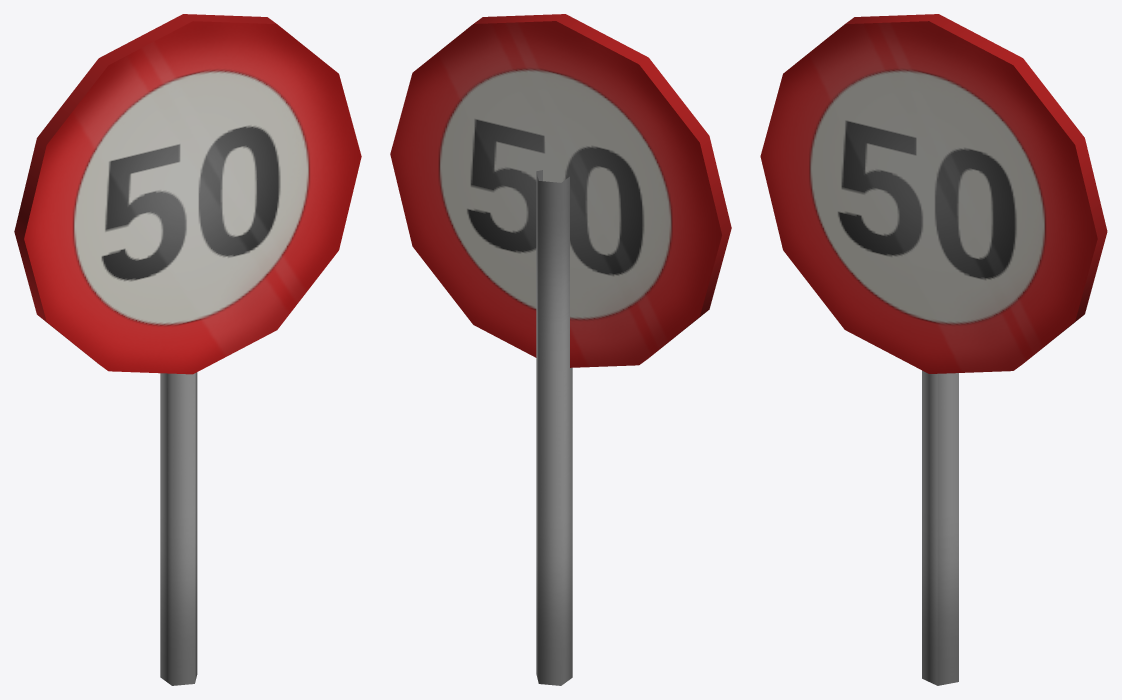
File: Sign_SpeedLimit.FBX
3 views of the same model, side by side, from view 1: azimuth 30°, elevation 25°; view 2: azimuth 150°, elevation 25°; view 3: azimuth 330°, elevation 25° (orthographic).
Parts seen in each view (by area): view 1: OBJ_Sign_SpeedLimit; view 2: OBJ_Sign_SpeedLimit; view 3: OBJ_Sign_SpeedLimit.
Boxes of the visible parts, x1,y1,x2,y2 form: OBJ_Sign_SpeedLimit: [14, 14, 361, 685]; OBJ_Sign_SpeedLimit: [390, 14, 731, 685]; OBJ_Sign_SpeedLimit: [760, 14, 1107, 685].
Bounding box in the file's own units: 4.34 × 8.19 × 0.4928.
